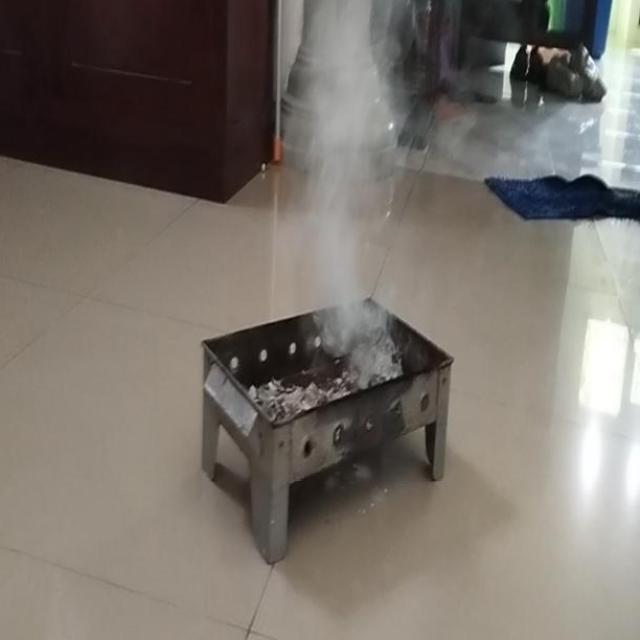fire: (282, 0, 410, 347)
